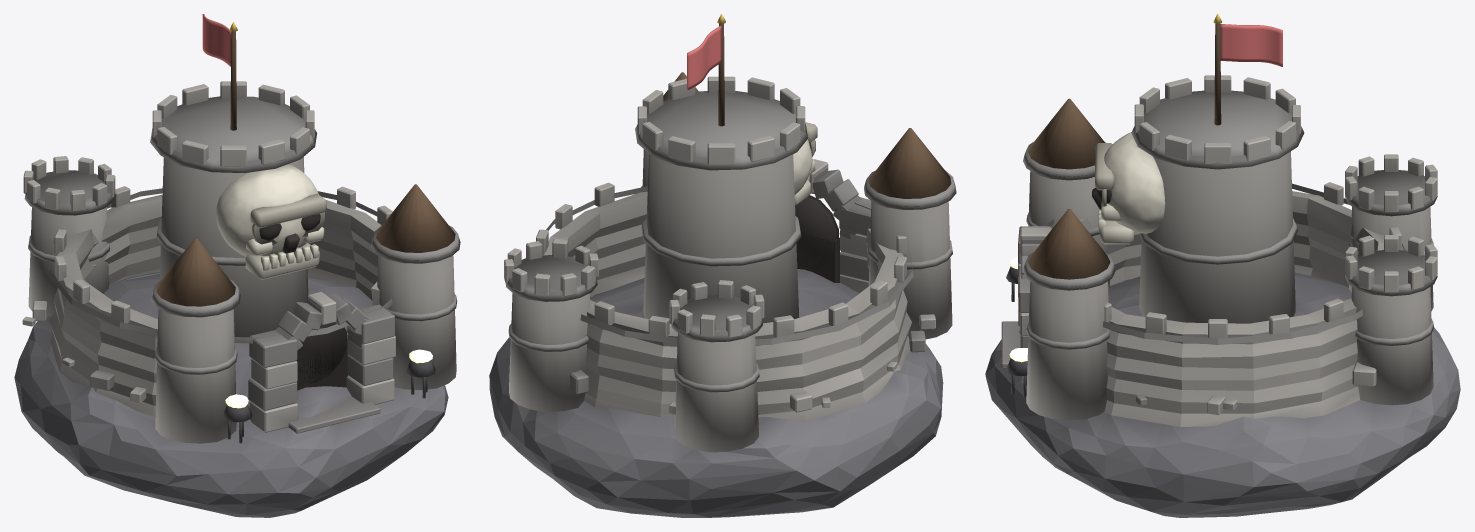
Rendered from fort.glb.
3 views of the same model, side by side, from view 1: azimuth 30°, elevation 25°; view 2: azimuth 150°, elevation 25°; view 3: azimuth 270°, elevation 25° (orthographic). The views are drawn at different scales.
Parts seen in each view (by area): view 1: fort; view 2: fort; view 3: fort.
Boxes of the visible parts, bbox=[...] form: fort: bbox=[14, 14, 460, 517]; fort: bbox=[489, 14, 956, 517]; fort: bbox=[985, 14, 1460, 517].
Size of the model in its own units: 15.67 by 17.86 by 16.6.
